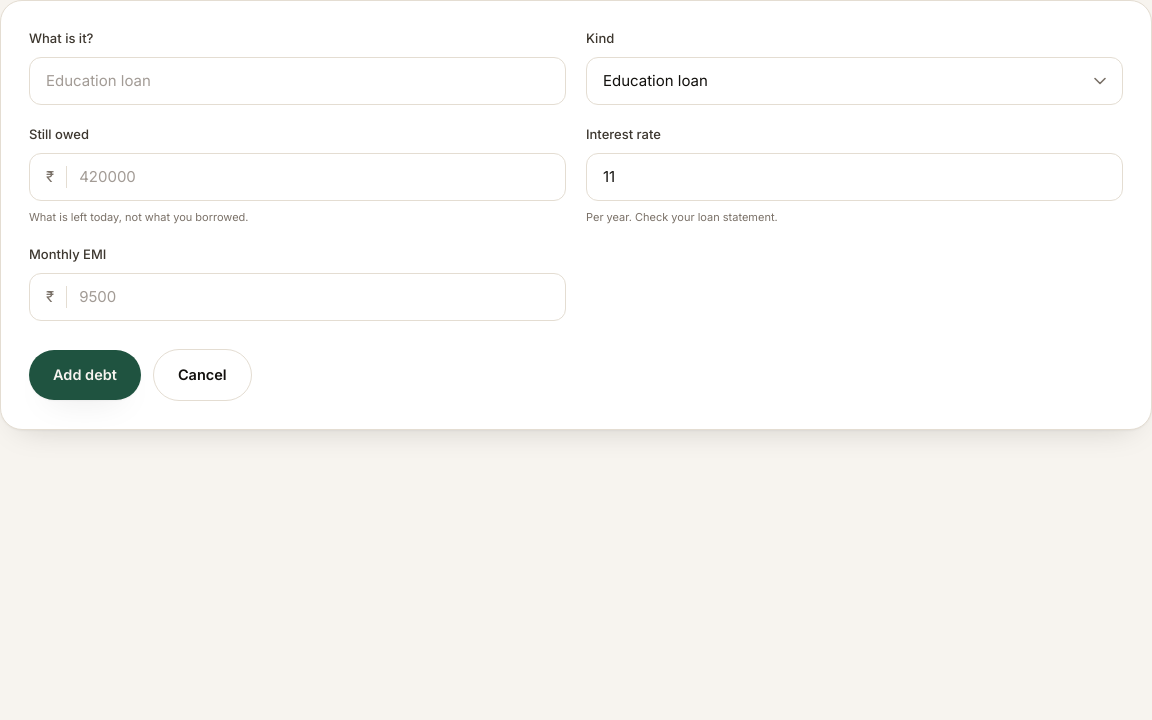
Test case: DebtForm previews the payoff as the numbers are typed
Type "Car loan" into the field labelled "What is it?". click: (298, 81)
box: [46,58,549,104]
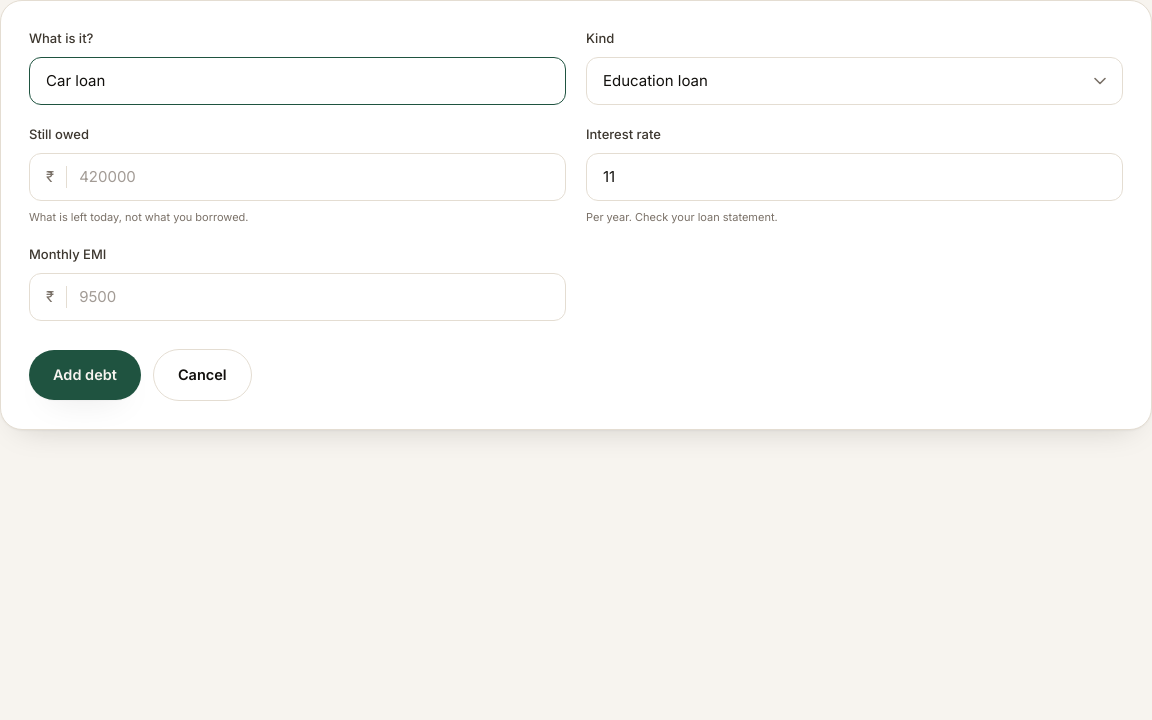
Type "300000" into the field labelled "Still owed". click: (314, 177)
box: [79,154,549,200]
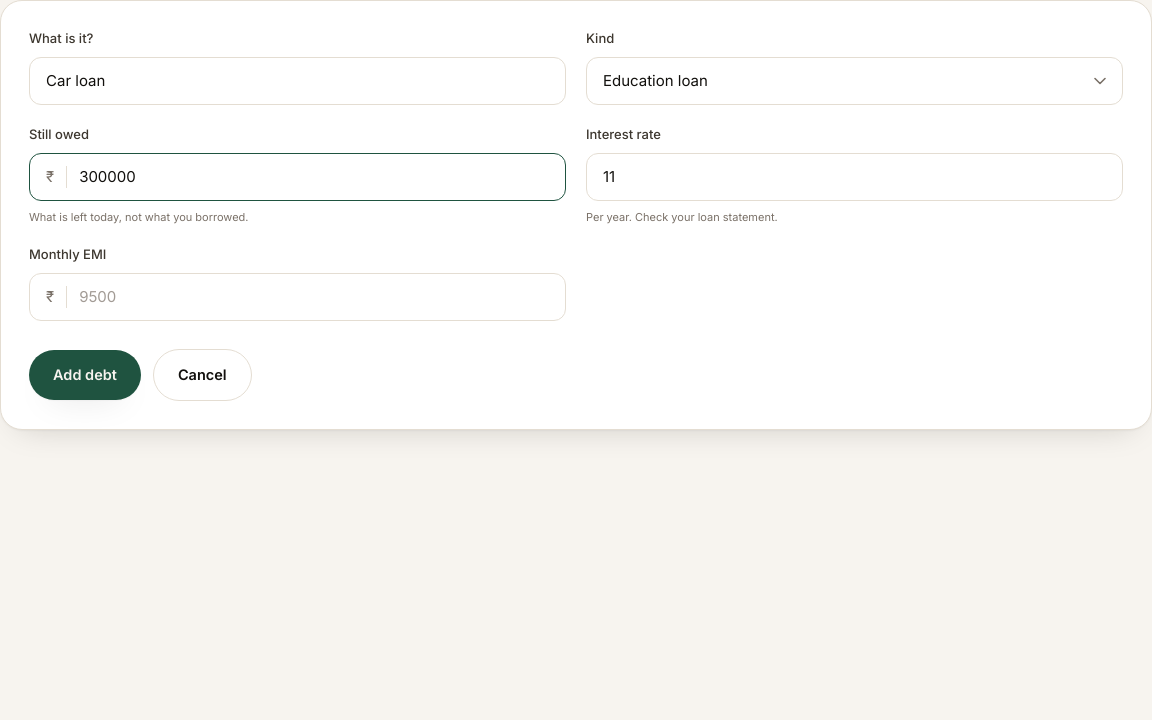
Replace the text in the field labelled "Interest rate" with "9.5". click: (854, 177)
box: [603,154,1106,200]
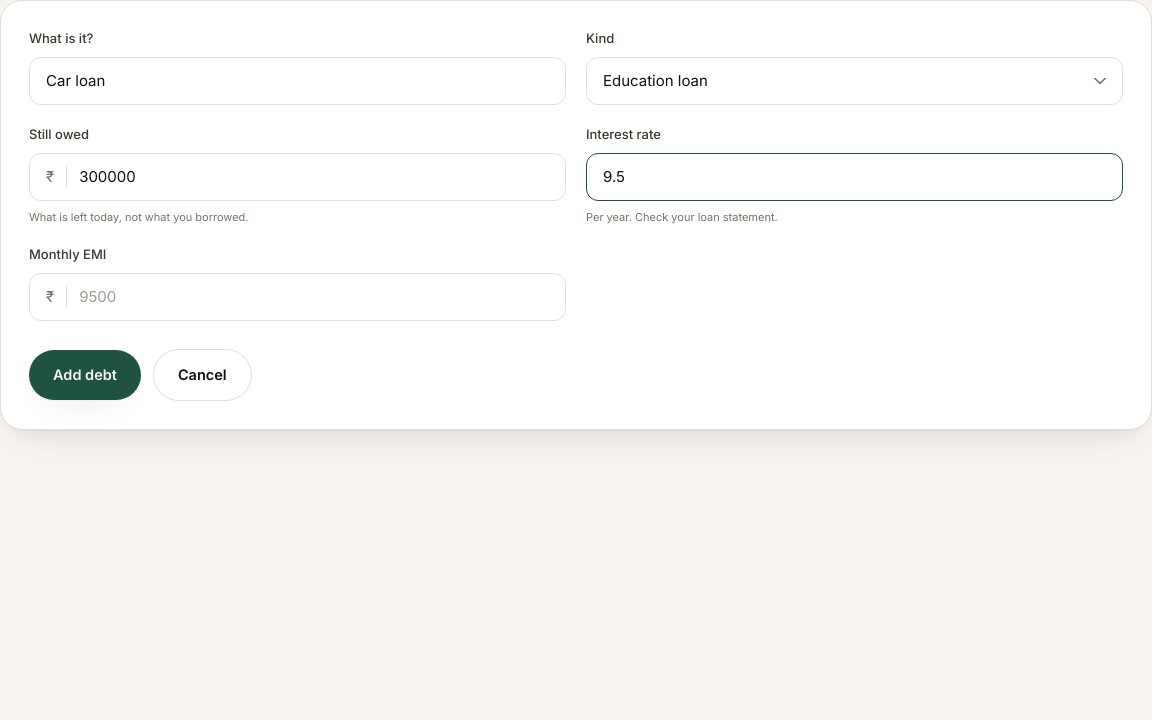
Type "9000" into the field labelled "Monthly EMI". click: (314, 297)
box: [79,274,549,320]
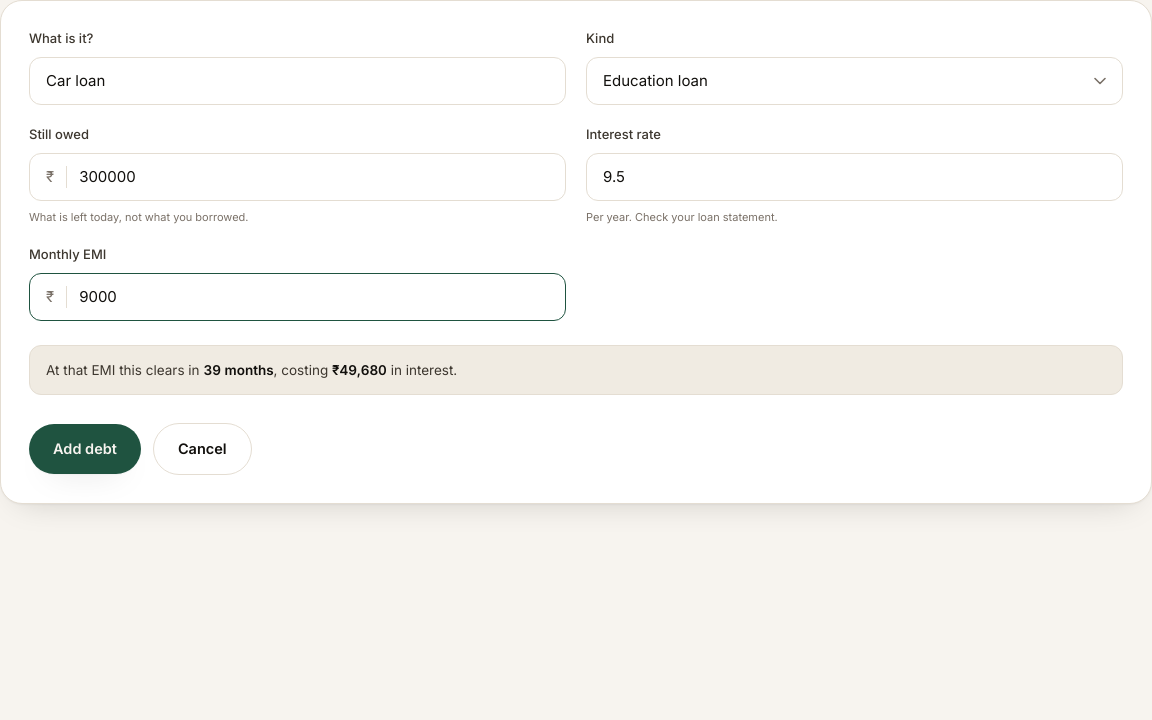
expect the text "clears in" is shown: met, box [46,362,203,378]
